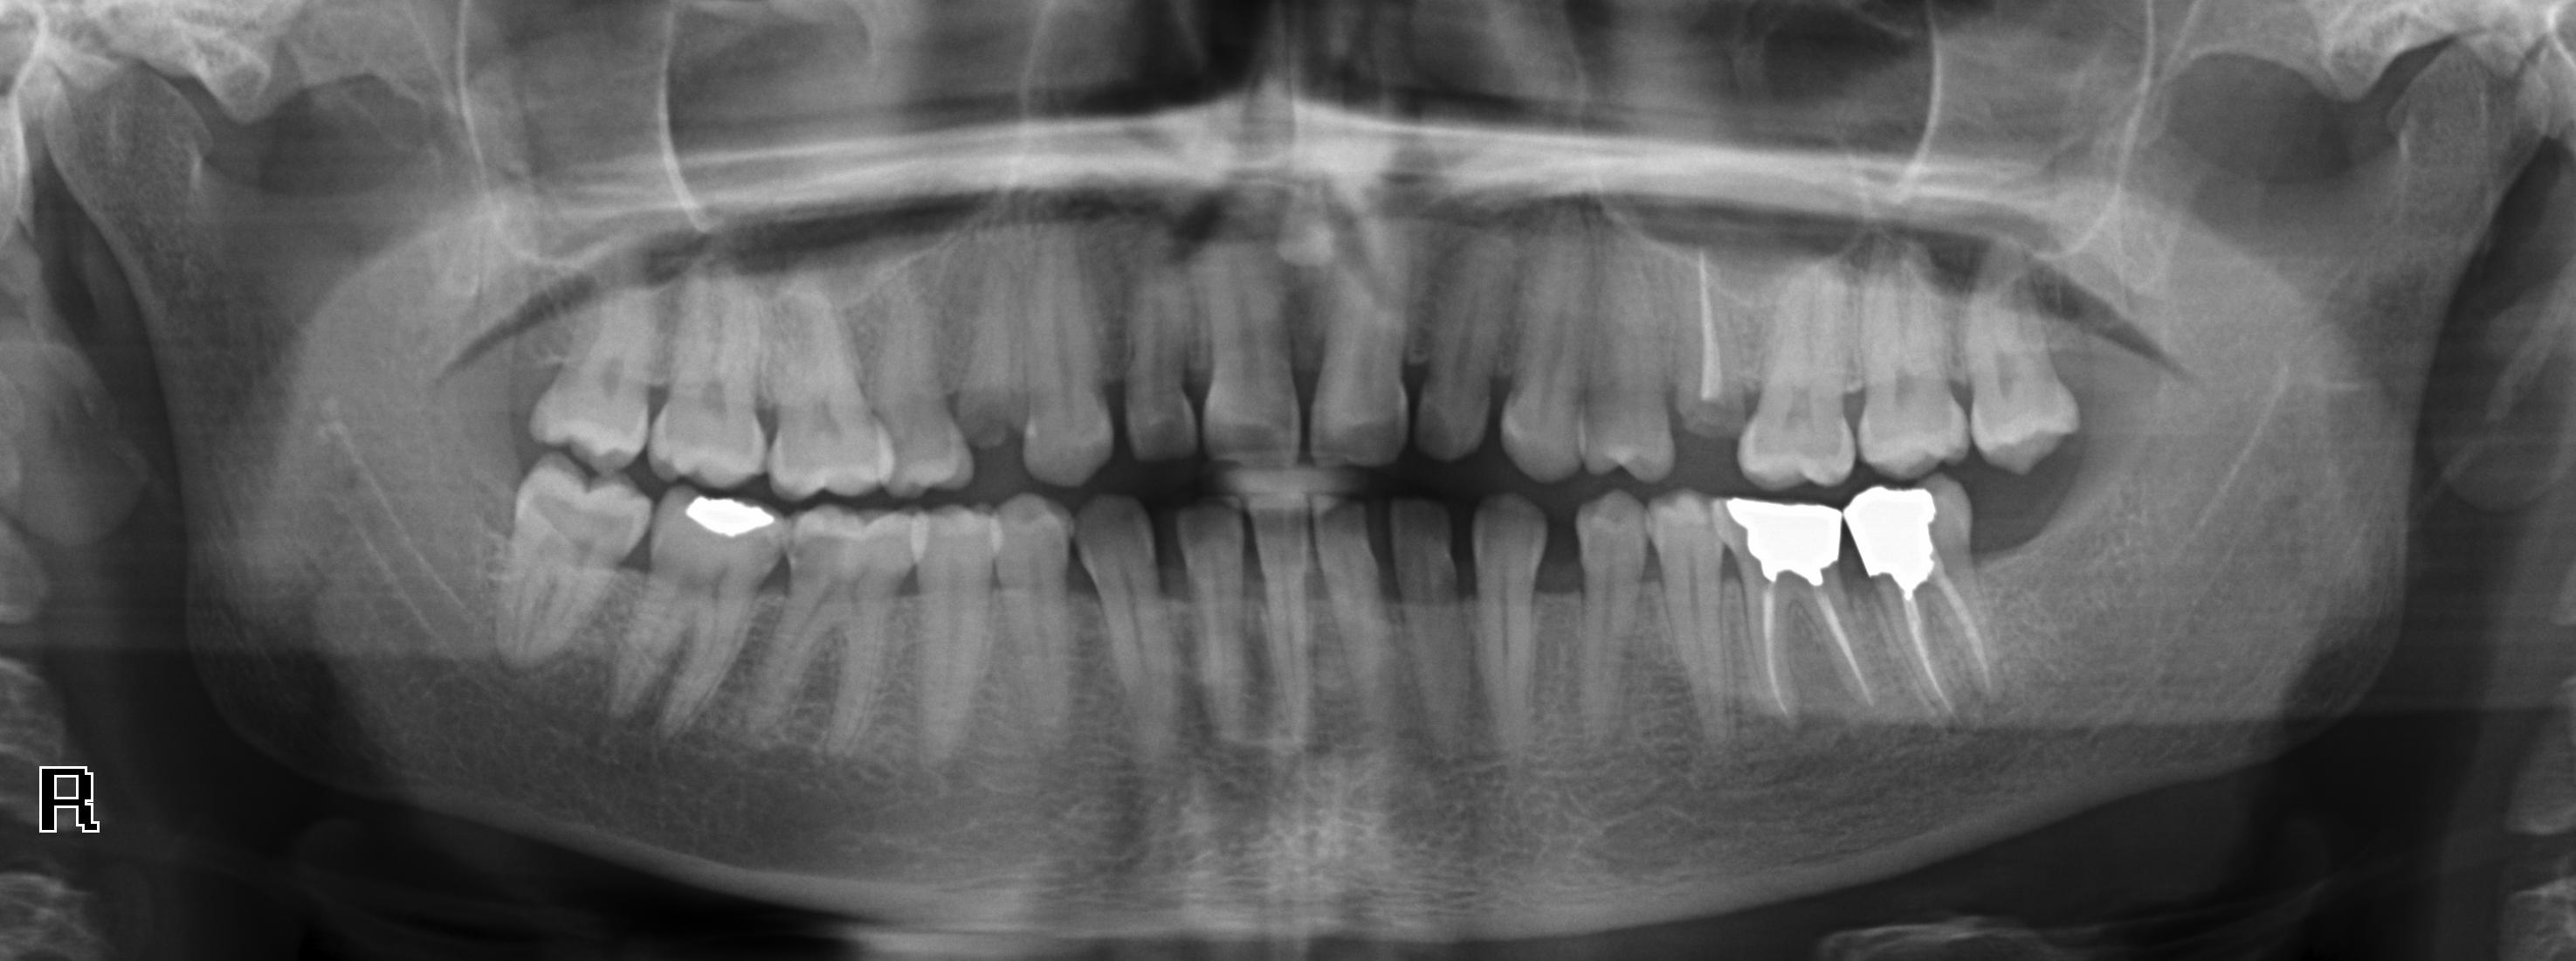Çürük: (1718, 486, 1840, 586), (1847, 475, 1942, 593), (680, 491, 790, 540)
Çürük Bölgesi: (1932, 513, 1998, 596), (954, 393, 1027, 448), (787, 506, 821, 600)
